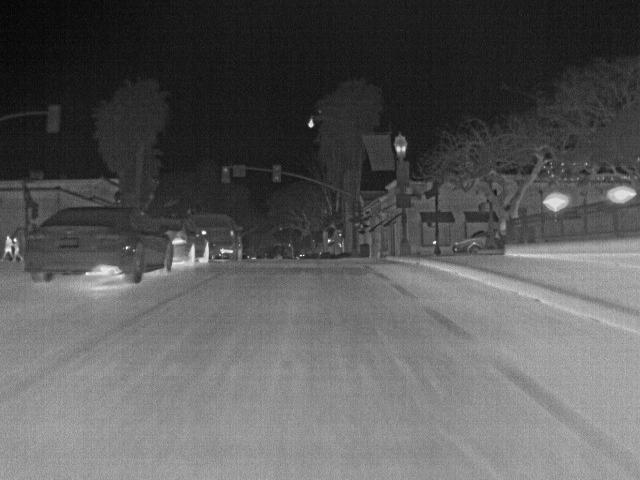car: (24, 207, 175, 286), (170, 226, 216, 268), (451, 230, 486, 254), (217, 246, 235, 258)
person: (11, 235, 20, 260), (3, 232, 11, 259)
